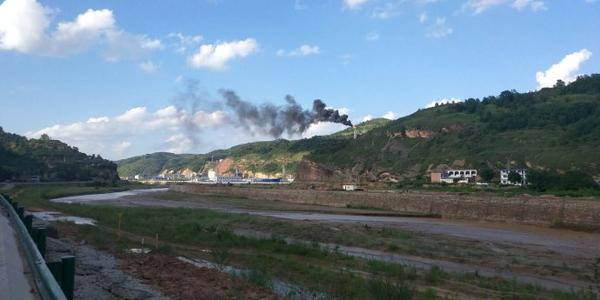smoke: (202, 84, 352, 135)
